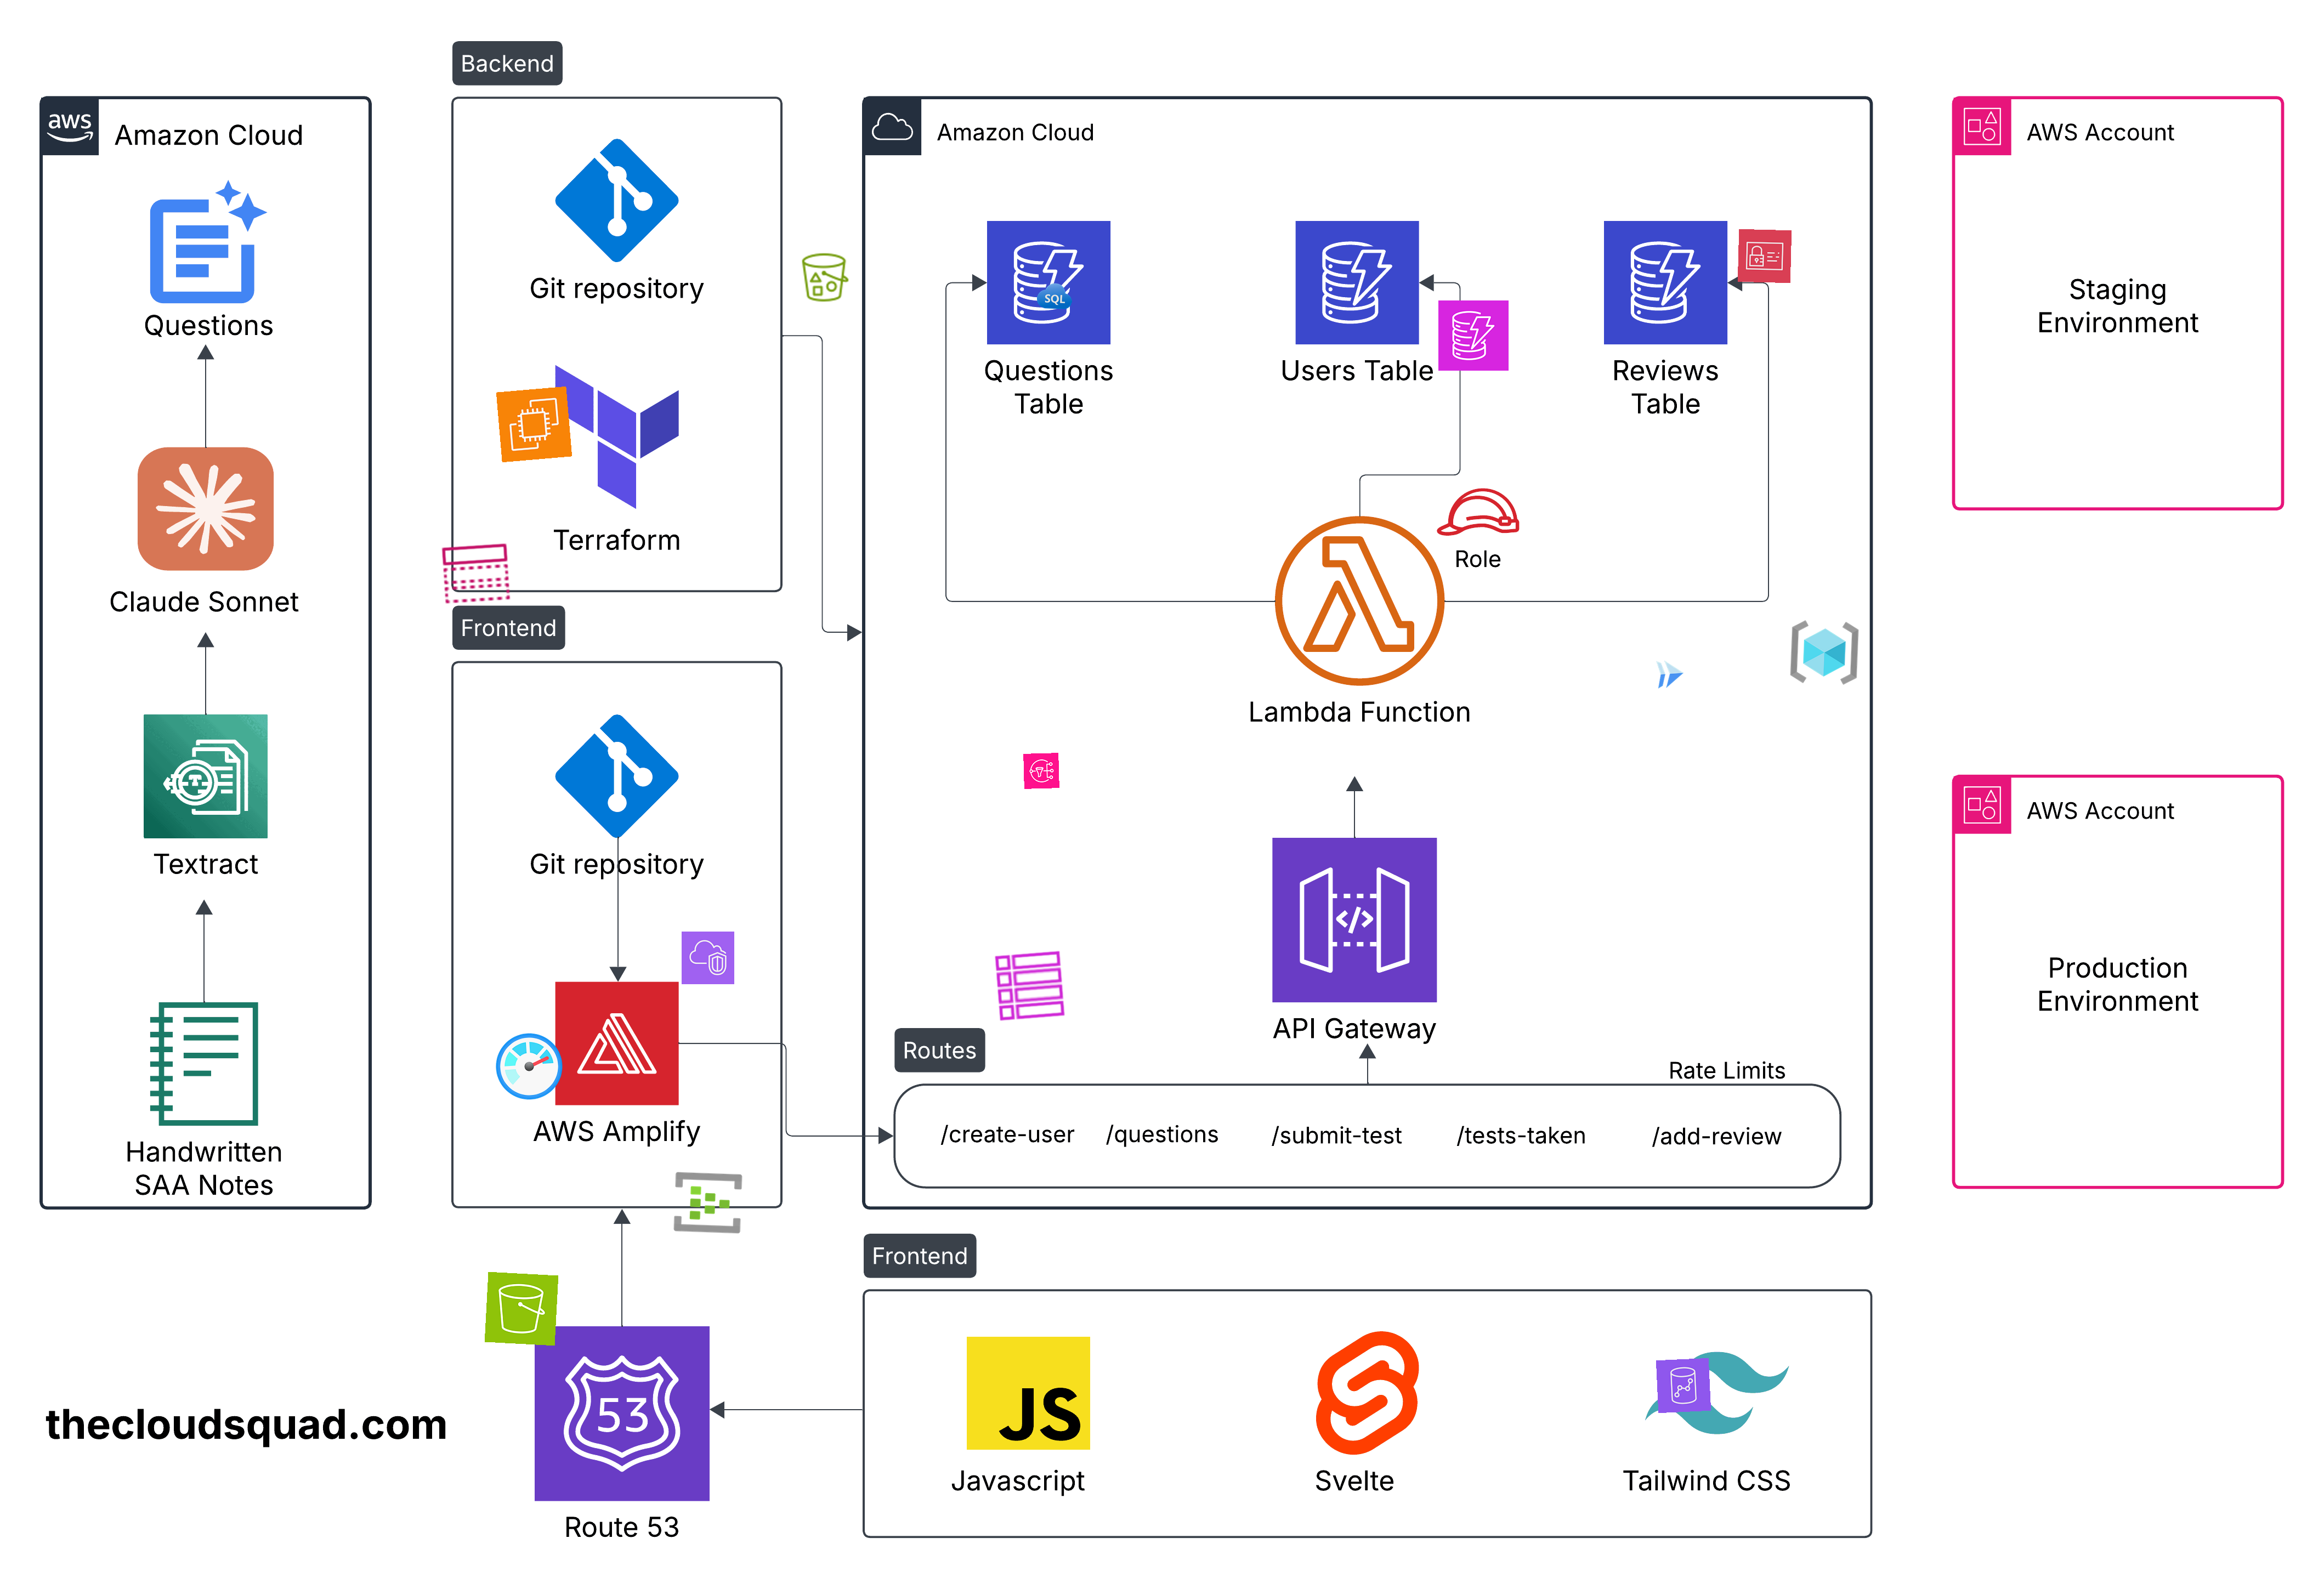aws_amazon_dynamodb: (1438, 299, 1509, 372)
aws_amazon_ec2: (496, 386, 572, 463)
aws_amazon_redshift: (1655, 1358, 1711, 1414)
aws_amazon_simple_notification_service: (1023, 752, 1060, 789)
aws_amazon_simple_storage_service: (484, 1272, 558, 1346)
aws_amazon_virtual_private_cloud: (681, 932, 734, 984)
aws_dynamodb_table: (991, 948, 1067, 1023)
aws_identity_and_access_management: (1738, 229, 1792, 284)
aws_simple_notification_service_topic: (438, 535, 514, 611)
aws_simple_storage_service_bucket_with_objects: (798, 250, 852, 305)
azure_event_hubs: (671, 1166, 745, 1240)
azure_monitor: (491, 1029, 567, 1104)
azure_resource_groups: (1787, 616, 1861, 689)
azure_sql: (1035, 278, 1074, 315)
gcp_cloud_run: (1651, 655, 1688, 694)
